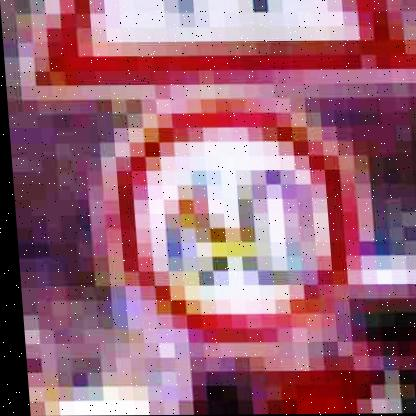Speed Limit -60-: (83, 91, 362, 346)
